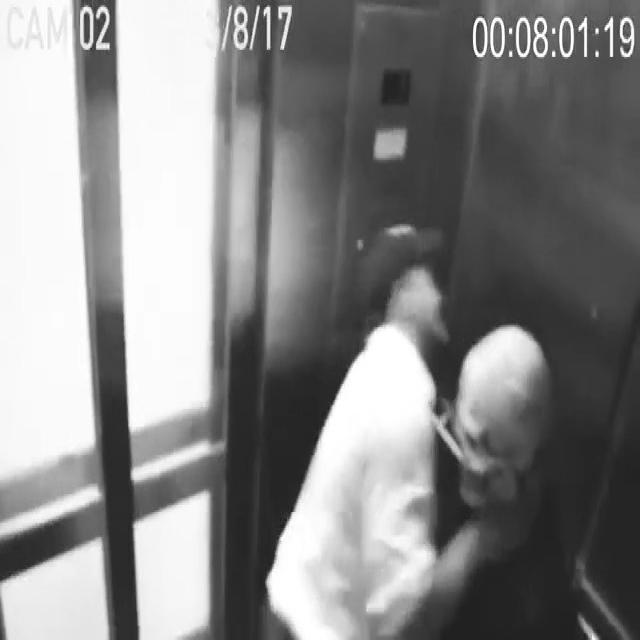fight: (321, 215, 568, 640)
